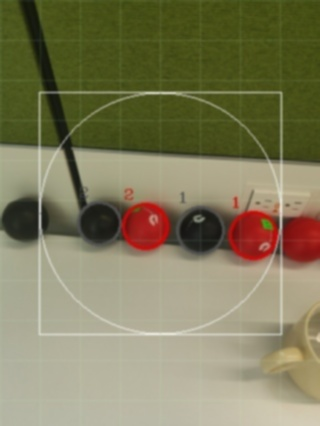Pelota blanca: (257, 345, 305, 376), (303, 300, 320, 363)
Pelota negra: (175, 204, 225, 256), (76, 201, 121, 246), (0, 198, 41, 243)
Pelota roja: (228, 209, 281, 262), (119, 201, 169, 251), (281, 214, 320, 264)
